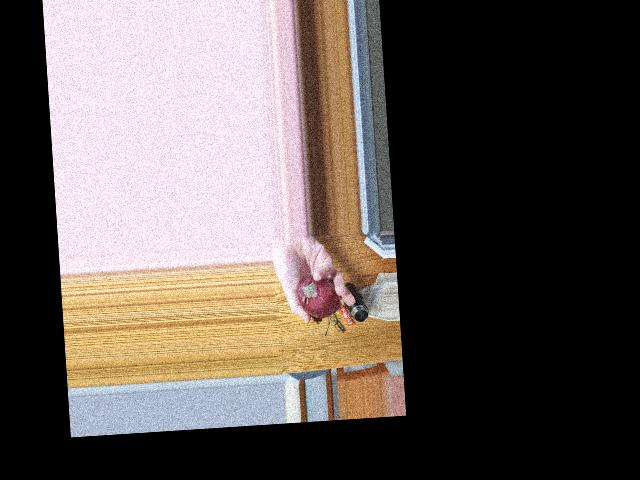onion: (296, 273, 337, 315)
